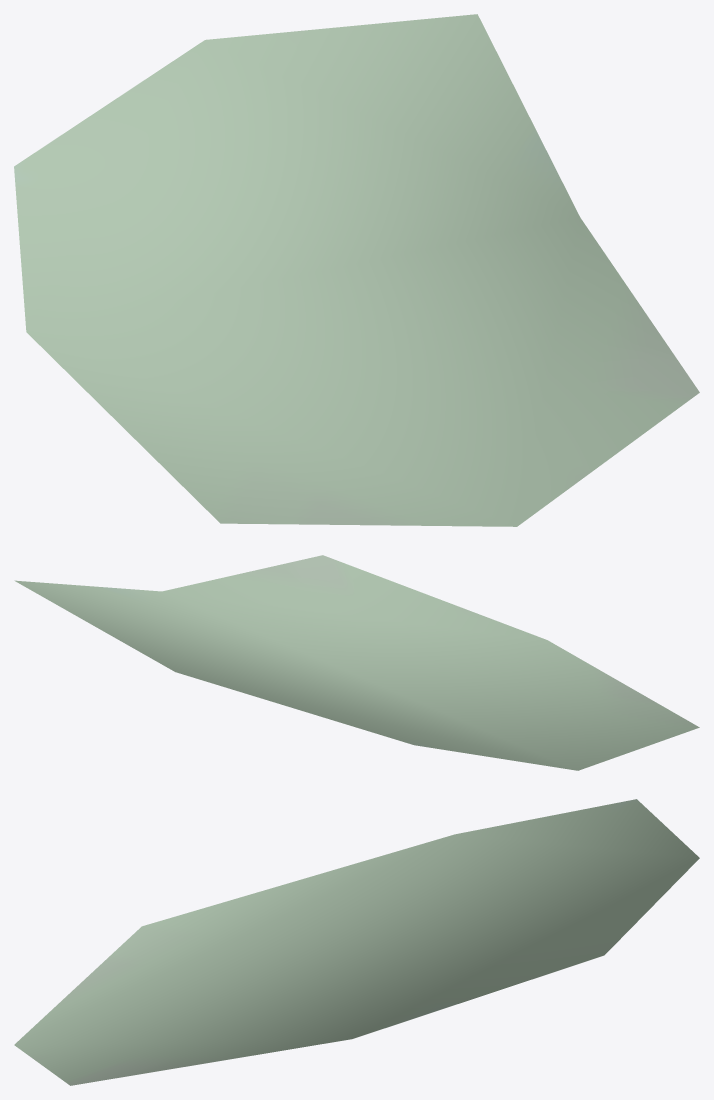
Rendered from TROLLHOLE02_HOLECAP92.fbx.
3 views of the same model, one above another, from view 1: azimuth 30°, elevation 25°; view 2: azimuth 150°, elevation 25°; view 3: azimuth 270°, elevation 25° (orthographic). The views are drawn at different scales.
Visible parts, largest first — view 1: TROLLHOLE02_HOLECAP92; view 2: TROLLHOLE02_HOLECAP92; view 3: TROLLHOLE02_HOLECAP92.
Boxes of the visible parts, <box> form: TROLLHOLE02_HOLECAP92: <box>14,14,699,526</box>; TROLLHOLE02_HOLECAP92: <box>14,555,699,770</box>; TROLLHOLE02_HOLECAP92: <box>14,799,699,1085</box>.
Size of the model in its own units: 8786 by 3544 by 10247.
1 material, 1 textured.
